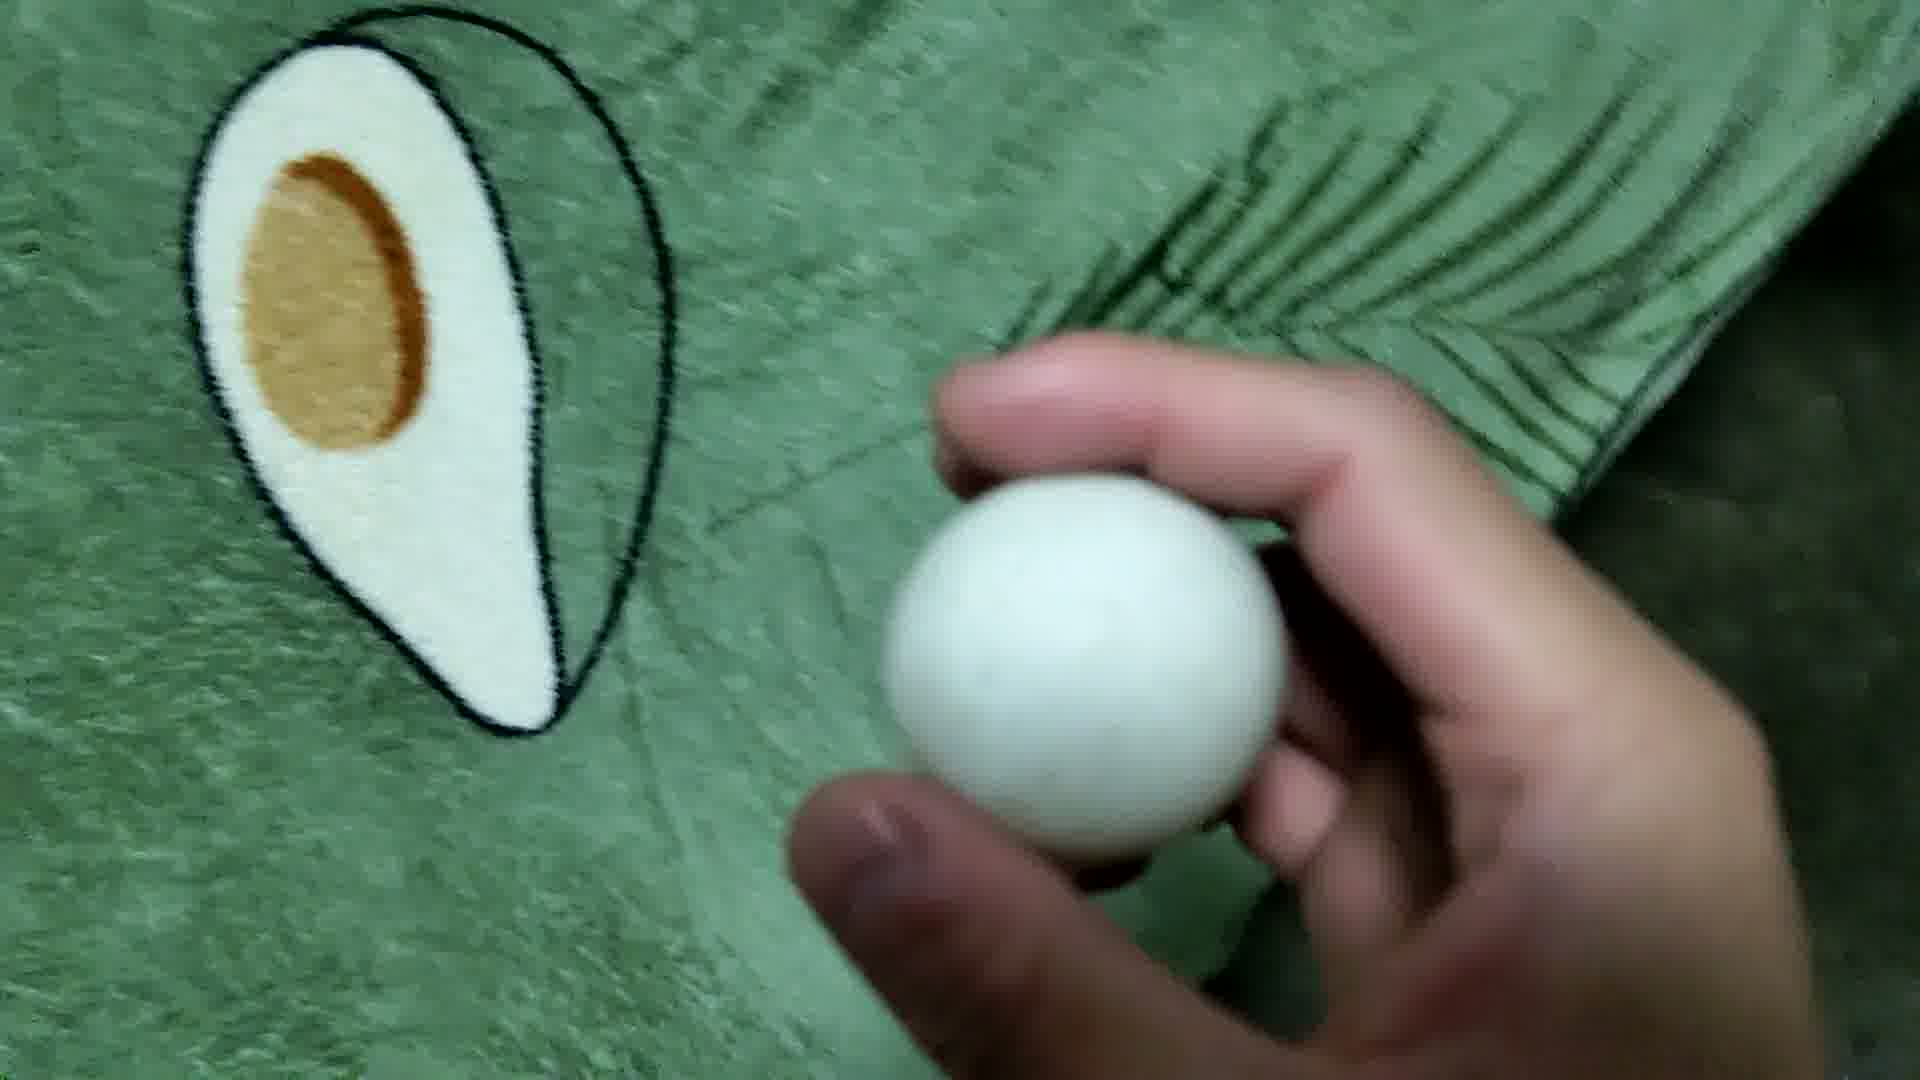Ball: (877, 469, 1284, 853)
